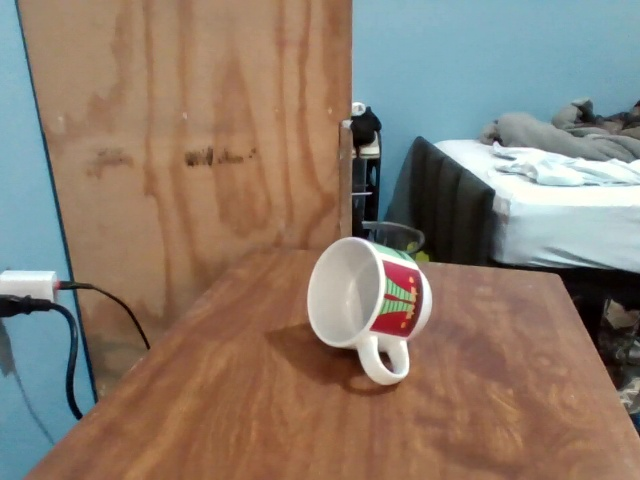taza: (306, 236, 430, 386)
